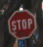stopsign: (8, 9, 37, 40)
